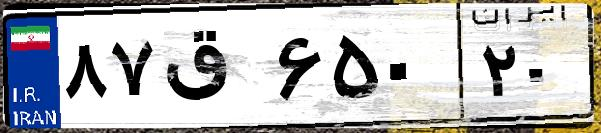0: (385, 28, 445, 110), (525, 38, 570, 115)
2: (475, 38, 525, 113)
5: (330, 28, 385, 110)
6: (270, 28, 330, 110)
7: (110, 28, 158, 98)
8: (57, 26, 110, 100)
ق: (158, 20, 270, 120)
